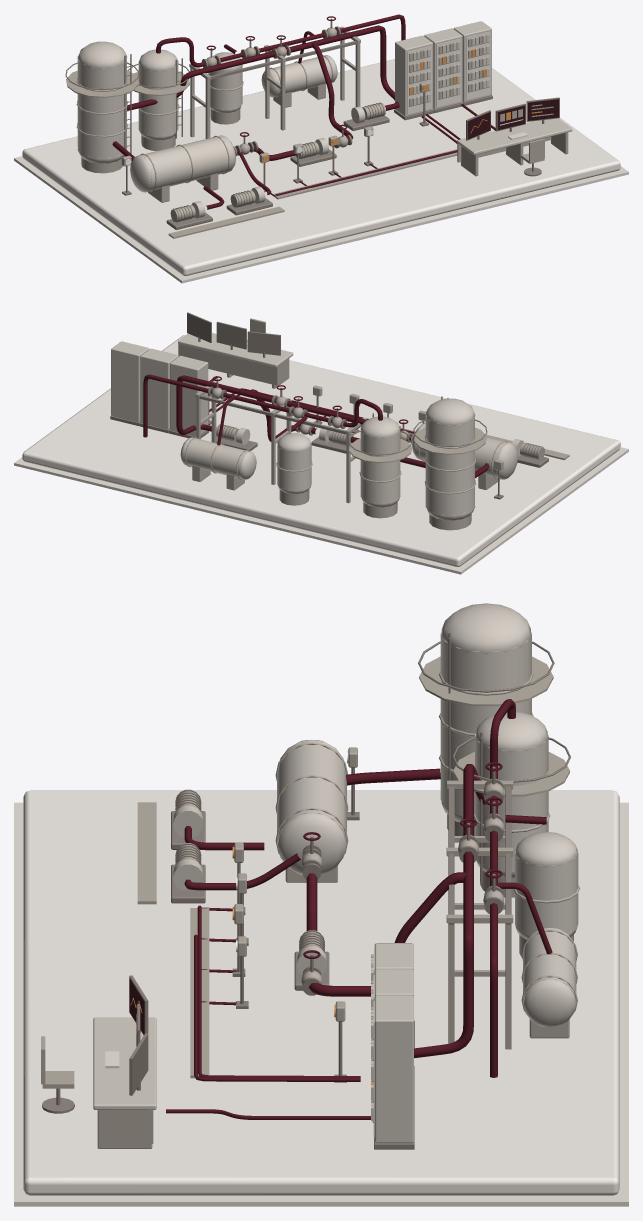
File: hero.glb
The picture shows the model from 3 angles, top to bottom: view 1: azimuth 30°, elevation 25°; view 2: azimuth 150°, elevation 25°; view 3: azimuth 270°, elevation 25°; orthographic projection. The views are drawn at different scales.
Visible parts, largest first — view 1: base-ground, process-equipment-light, process-equipment-mid, process-lines-pipe, base-dim, control-cabinets-light, process-equipment-dark, control-cabinets-dim, signal-paths-mid, scada-desk-mid, scada-desk-light, scada-desk-screen (+8 smaller); view 2: base-ground, process-equipment-light, process-equipment-mid, control-cabinets-light, base-dim, process-lines-pipe, process-equipment-dark, scada-desk-mid, scada-desk-dark, scada-desk-light, process-lines-dark, process-lines-mid (+1 smaller); view 3: base-ground, process-equipment-light, base-dim, process-lines-pipe, process-equipment-mid, control-cabinets-light, process-equipment-dark, scada-desk-light, signal-paths-mid, signal-paths-pipe, scada-desk-mid, process-lines-dark (+4 smaller).
Boxes of the visible parts, x1,y1,x2,y2 form: base-ground: (22,59,620,275); process-equipment-light: (77,41,365,218); process-equipment-mid: (66,26,385,221); process-lines-pipe: (112,14,405,209); base-dim: (14,156,628,283); control-cabinets-light: (395,21,491,116); process-equipment-dark: (65,40,389,229); control-cabinets-dim: (407,31,490,114); signal-paths-mid: (168,149,457,238); scada-desk-mid: (457,104,568,176); scada-desk-light: (457,118,572,154); scada-desk-screen: (467,99,558,139); base-ground: (22,335,620,566); process-equipment-light: (180,398,523,520); process-equipment-mid: (185,381,544,530); control-cabinets-light: (111,341,208,436); base-dim: (14,447,628,574); process-lines-pipe: (143,374,489,477); process-equipment-dark: (199,395,548,467); scada-desk-mid: (178,318,289,388); scada-desk-dark: (187,312,280,357); scada-desk-light: (178,333,293,367); process-lines-dark: (207,378,414,442); process-lines-mid: (211,387,408,440); base-ground: (23,790,619,1195); process-equipment-light: (173,603,578,1027); base-dim: (14,802,628,1206); process-lines-pipe: (184,699,552,1077); process-equipment-mid: (177,656,579,1049); control-cabinets-light: (371,943,413,1143); process-equipment-dark: (171,632,570,1058); scada-desk-light: (93,1017,156,1109); signal-paths-mid: (137,802,209,1078); signal-paths-pipe: (166,905,370,1119); scada-desk-mid: (41,1014,153,1148); process-lines-dark: (302,766,503,995).
Bounding box in the file's own units: 14.9 × 4.2 × 9.7.
